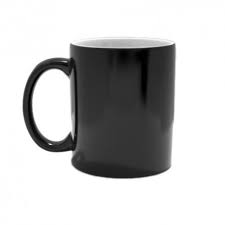cup: (20, 34, 180, 183)
